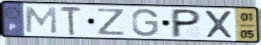G: (131, 8, 160, 38)
M: (24, 6, 59, 35)
P: (169, 8, 203, 39)
T: (58, 5, 84, 37)
X: (203, 9, 236, 40)
Z: (96, 7, 127, 37)
